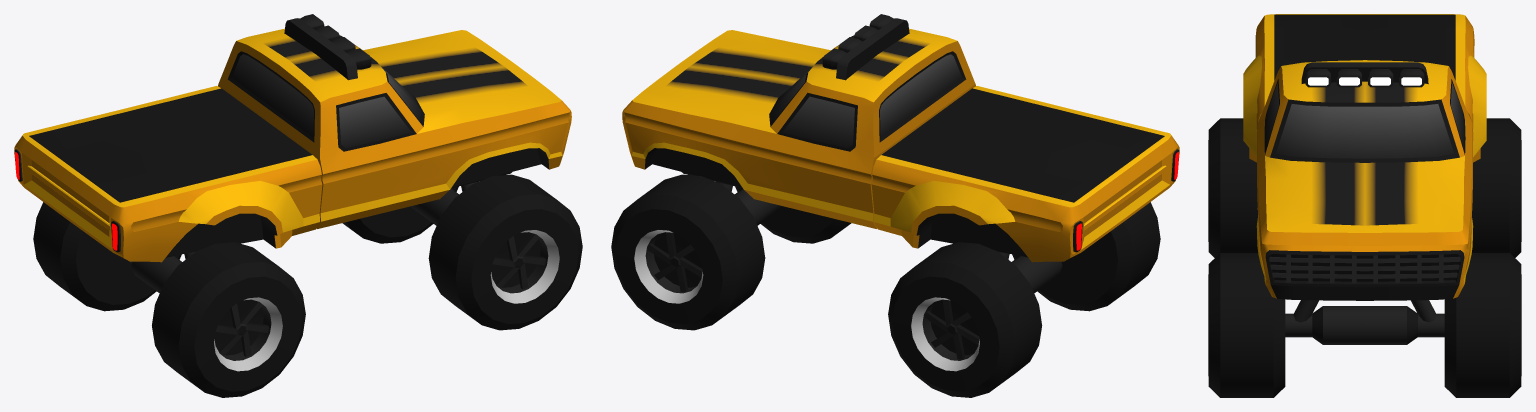
The model's file is Car_008.glb.
3 renders of one model, left to right at view 1: azimuth 30°, elevation 25°; view 2: azimuth 150°, elevation 25°; view 3: azimuth 270°, elevation 25°, orthographic.
Parts seen in each view (by area): view 1: Car_008, wheel_1_Car_008_Wheel_1R, wheel_3_Car_008_Wheel_2R, wheel_2_Car_008_Wheel_2L, wheel_0_Car_008_Wheel_1L; view 2: Car_008, wheel_0_Car_008_Wheel_1L, wheel_2_Car_008_Wheel_2L, wheel_3_Car_008_Wheel_2R, wheel_1_Car_008_Wheel_1R; view 3: Car_008, wheel_0_Car_008_Wheel_1L, wheel_1_Car_008_Wheel_1R, wheel_3_Car_008_Wheel_2R, wheel_2_Car_008_Wheel_2L.
Part boxes in pixels (x1,y1,x2,y2): Car_008: (14, 14, 571, 293); wheel_1_Car_008_Wheel_1R: (428, 174, 582, 330); wheel_3_Car_008_Wheel_2R: (152, 242, 305, 397); wheel_2_Car_008_Wheel_2L: (33, 202, 181, 311); wheel_0_Car_008_Wheel_1L: (342, 186, 458, 243); Car_008: (622, 14, 1179, 293); wheel_0_Car_008_Wheel_1L: (611, 174, 765, 330); wheel_2_Car_008_Wheel_2L: (888, 242, 1042, 397); wheel_3_Car_008_Wheel_2R: (1012, 202, 1160, 311); wheel_1_Car_008_Wheel_1R: (735, 186, 851, 243); Car_008: (1243, 14, 1486, 344); wheel_0_Car_008_Wheel_1L: (1411, 253, 1521, 397); wheel_1_Car_008_Wheel_1R: (1208, 253, 1318, 397); wheel_3_Car_008_Wheel_2R: (1208, 118, 1258, 257); wheel_2_Car_008_Wheel_2L: (1472, 118, 1521, 257).
Size of the model in its own units: 5.03 by 2.77 by 2.96.
Materials: 2 (2 with a texture image).
